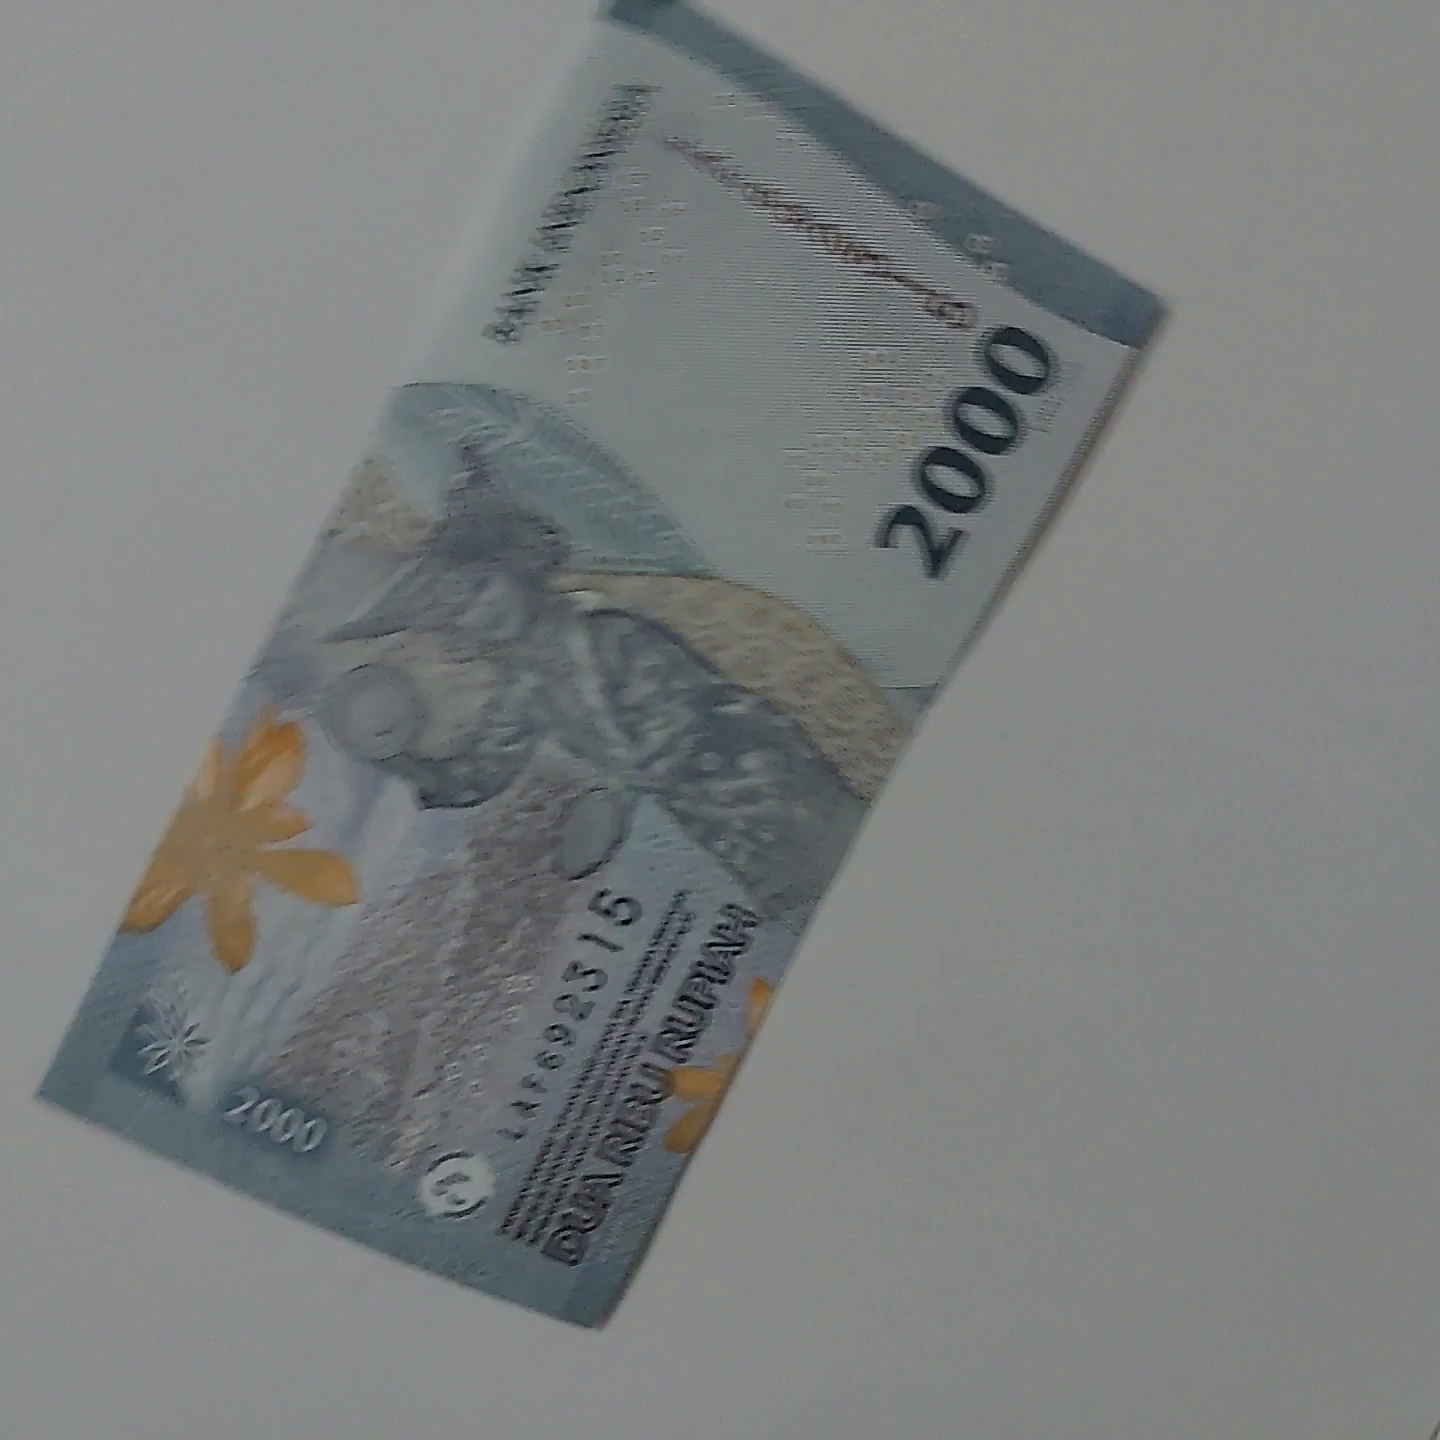2k: (16, 0, 1170, 1337)
